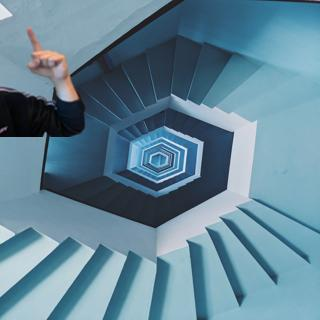IRRITATED: (21, 27, 69, 81)
